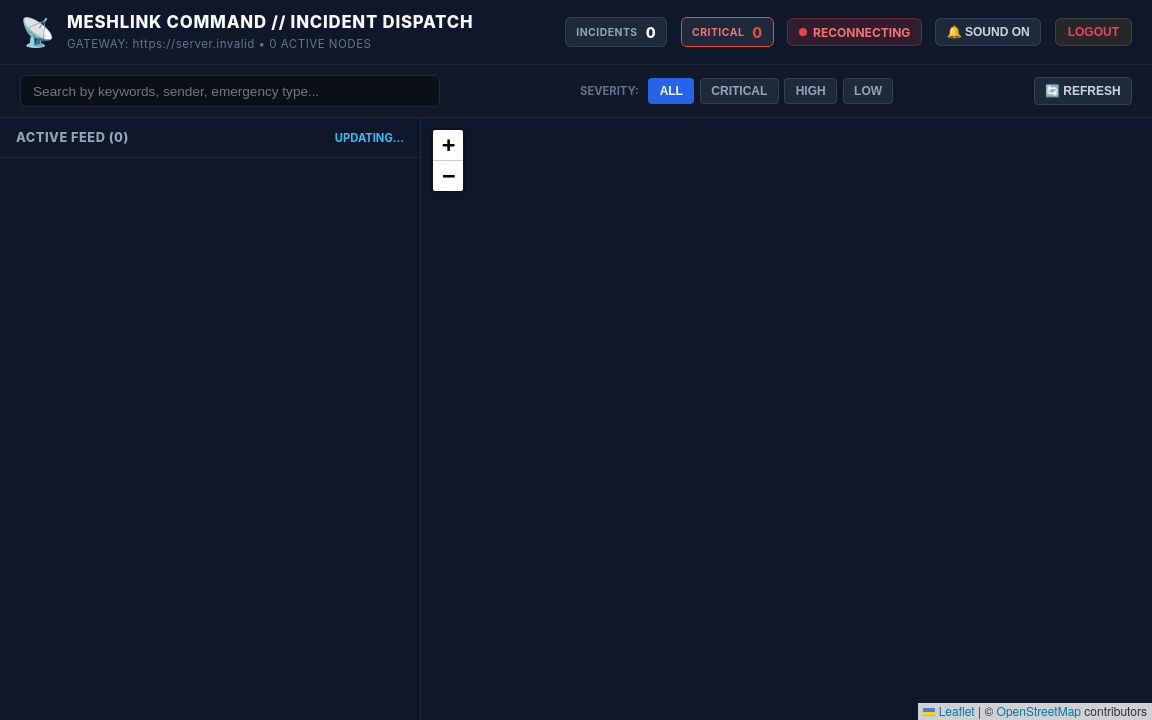
Test case: MeshLink Tactical Responder Dashboard › handles operator logout and clears session
Click the button with test id "logout-button".
click(1093, 32)  # box [1055,18,1132,46]
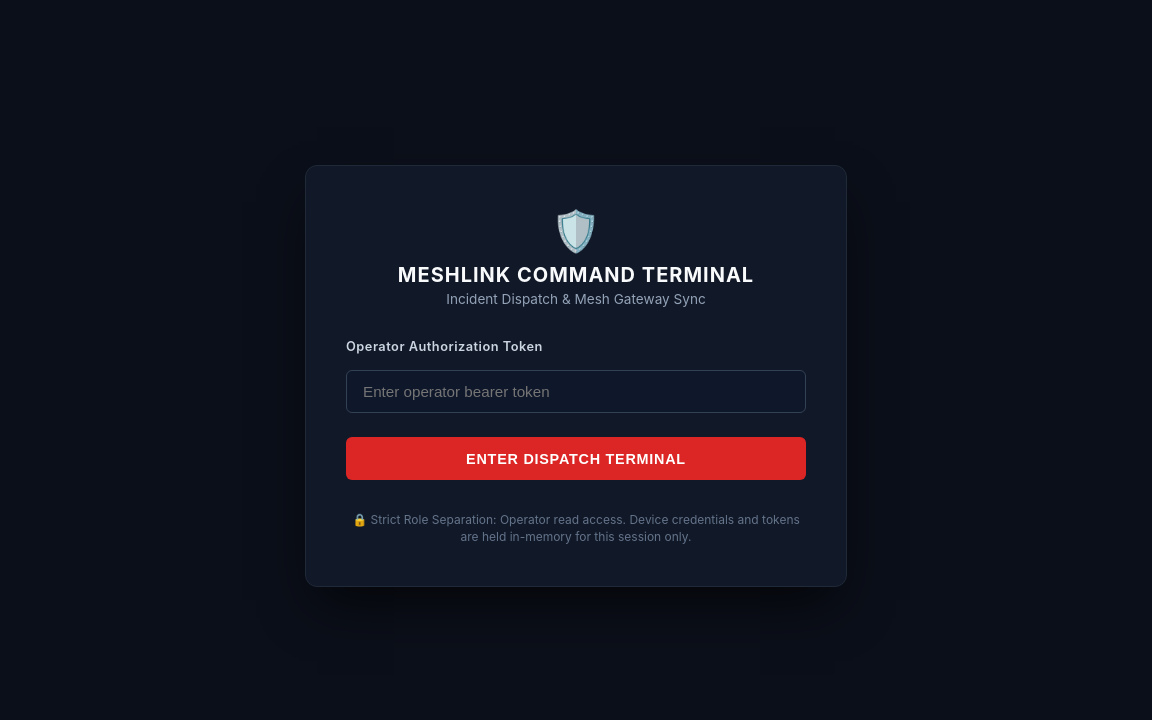
Expected: the password field with test id "token-input" is shown, [346,370,806,413]
